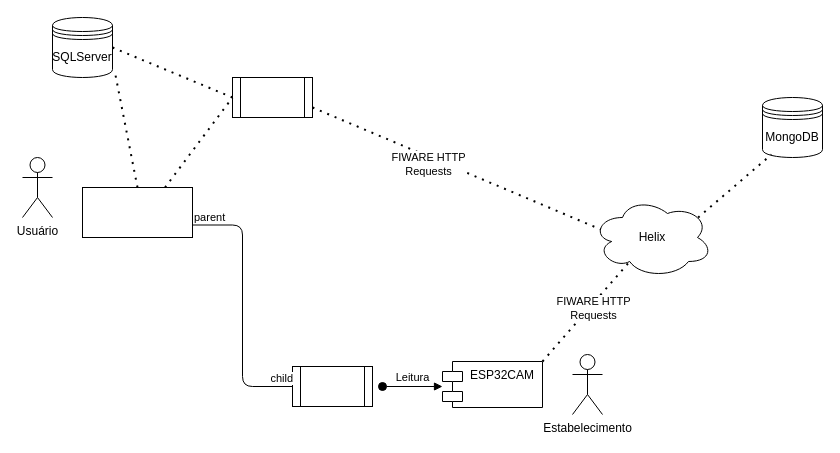
Some shapes in this 840 by 453 pixel diagram are drawn without their labels. Each missing label, with the centre of its shape:
"QRCode" belongs at (332,386).
"REST API" belongs at (272,97).
"«interface» Site" belongs at (137,212).
